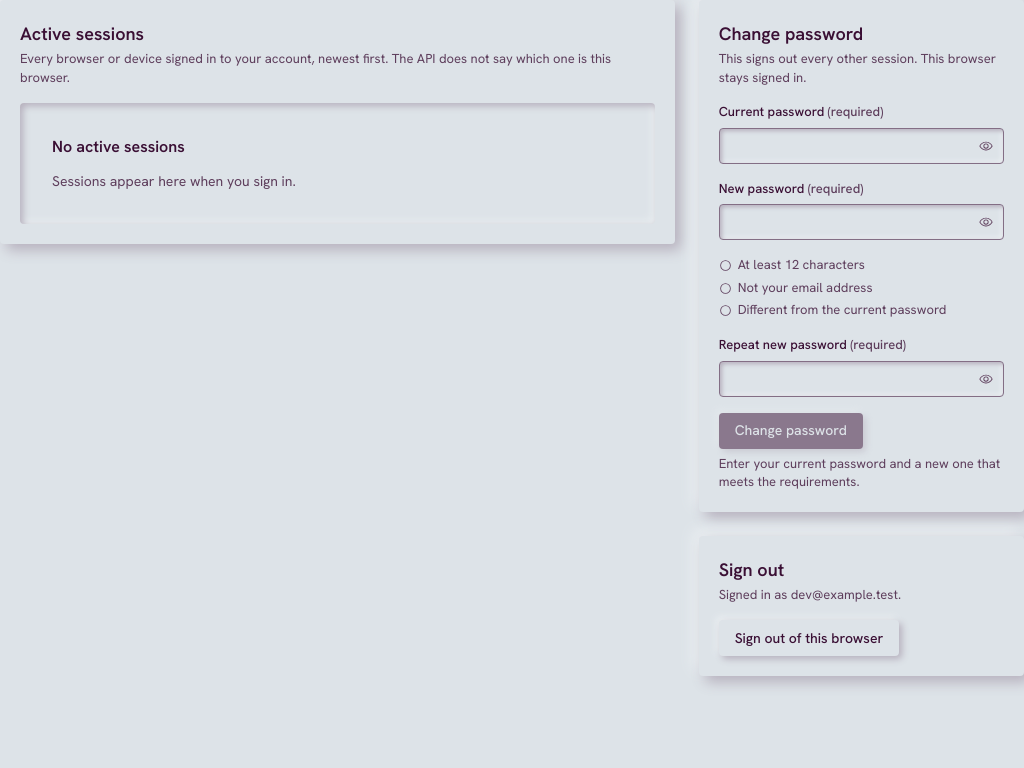
Test: Change password › maps a wrong current password to that field
Type "old-password-1" into the password field labelled "Current password (required)" at (861, 146), box [719,128,1004,164]
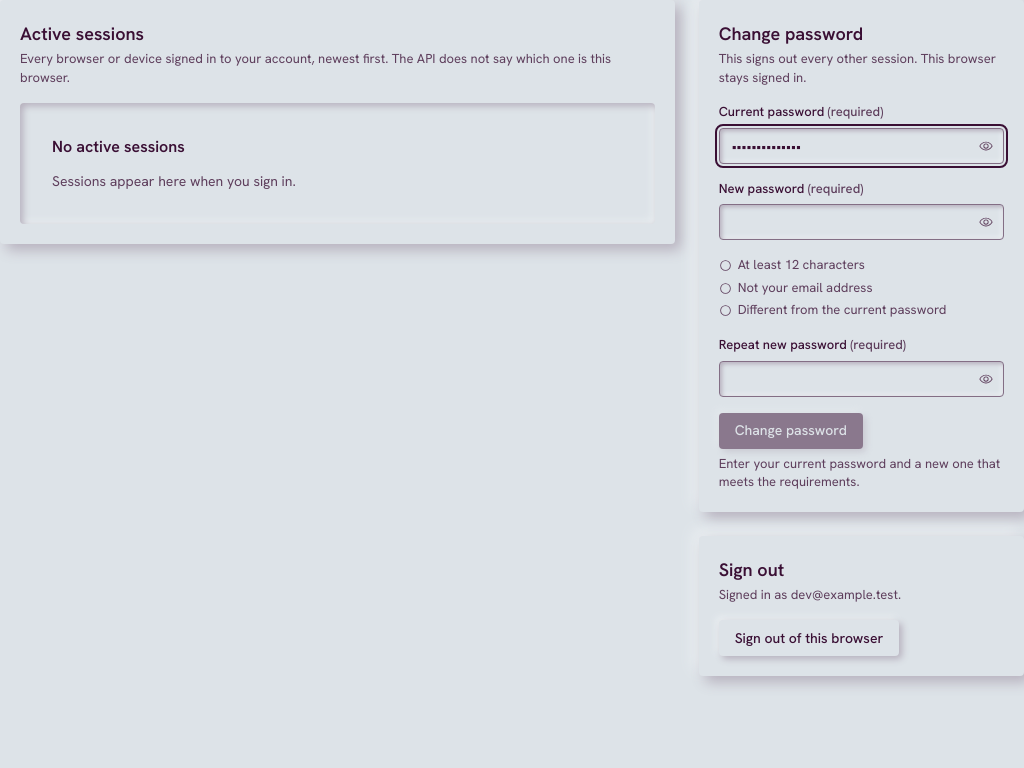
Type "a-new-password-12" into the password field labelled "New password (required)" at (861, 222), box [719,204,1004,240]
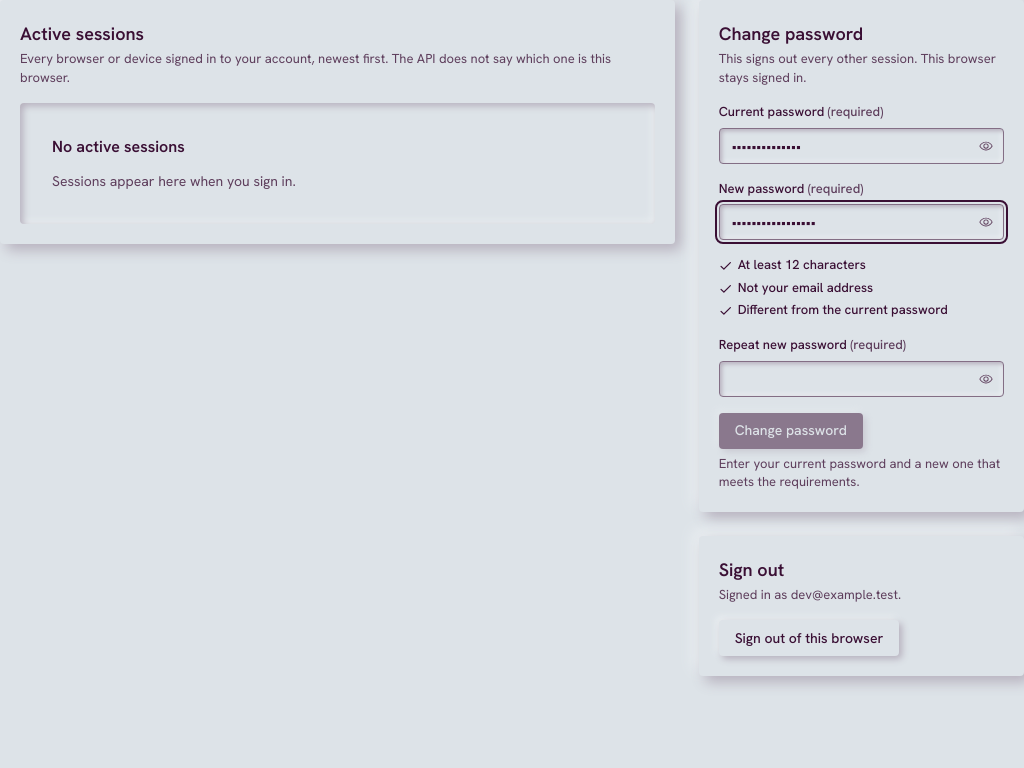
Type "a-new-password-12" into the password field labelled "Repeat new password (required)" at (861, 378), box [719,360,1004,396]
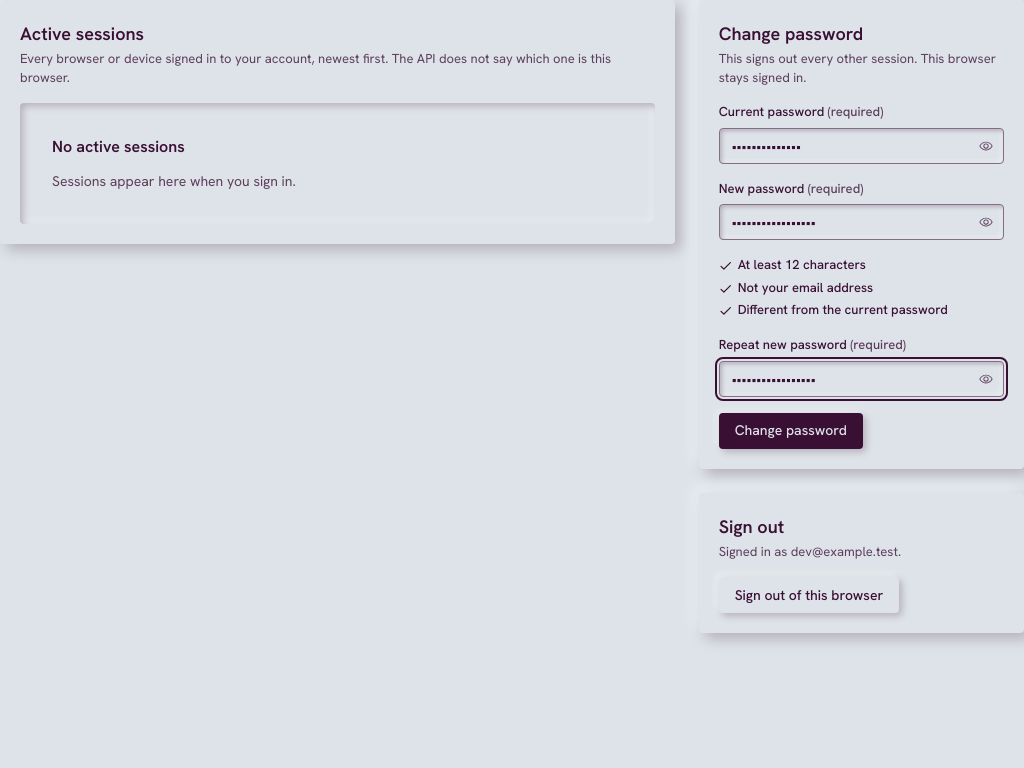
Click the button "Change password" at (791, 430), box [719,412,863,448]
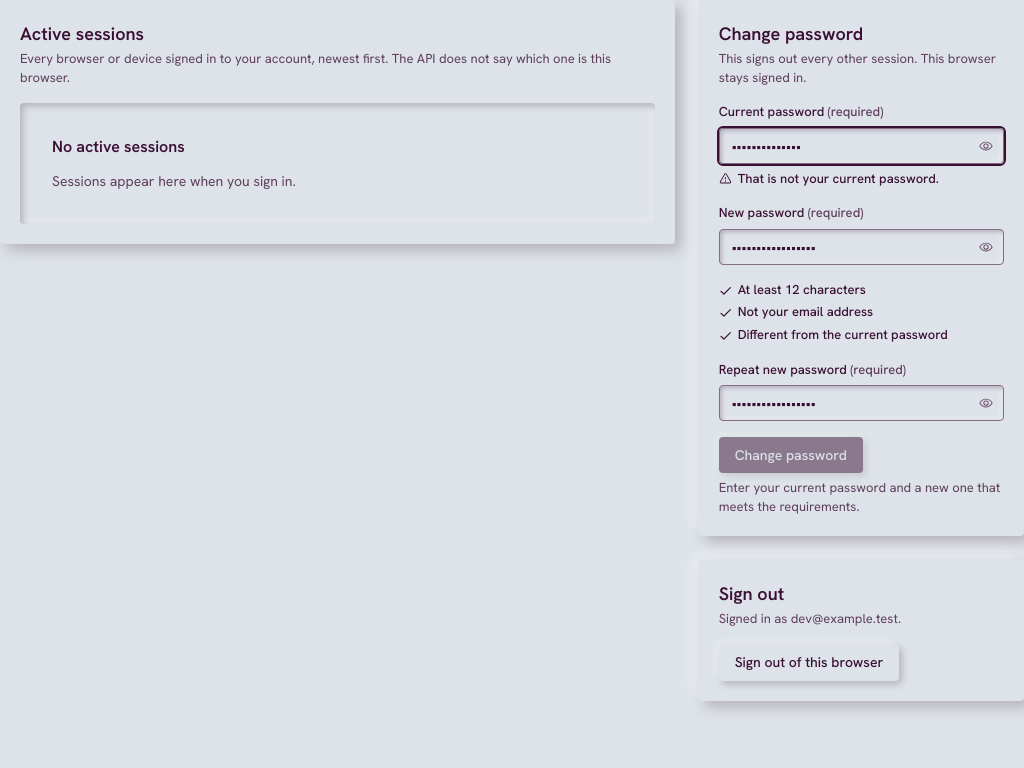
expect the text "That is not your current password." is shown: met, box [719,170,939,187]
